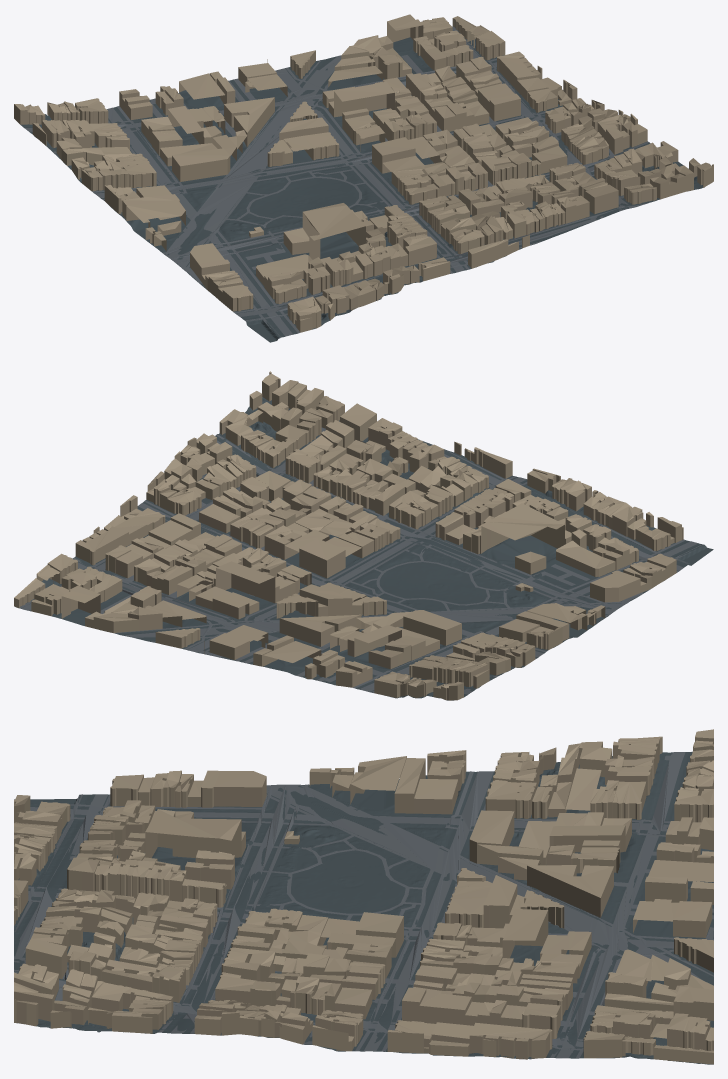
File: epsg26910-1437-10895.lod0.glb
3 renders of one model, top to bottom at view 1: azimuth 30°, elevation 25°; view 2: azimuth 150°, elevation 25°; view 3: azimuth 270°, elevation 25°, orthographic. The views are drawn at different scales.
Visible parts, largest first — view 1: epsg26910-1437-10895-lod0; view 2: epsg26910-1437-10895-lod0; view 3: epsg26910-1437-10895-lod0.
Part boxes in pixels (x1,y1,x2,y2): epsg26910-1437-10895-lod0: [14, 14, 713, 342]; epsg26910-1437-10895-lod0: [14, 371, 713, 700]; epsg26910-1437-10895-lod0: [14, 729, 713, 1064].
Bounding box in the file's own units: 384 × 57.85 × 384.
